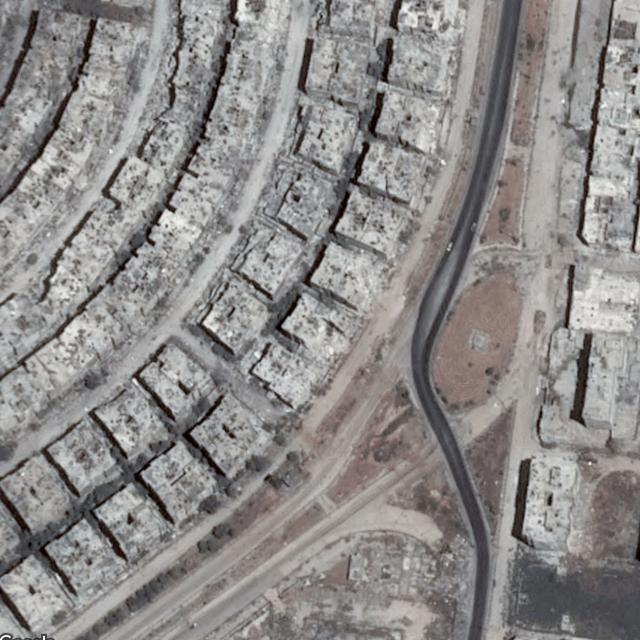damaged_building: (0, 0, 291, 448), (188, 89, 353, 354), (0, 5, 149, 275), (249, 240, 398, 409), (358, 0, 463, 212), (314, 0, 379, 45)
